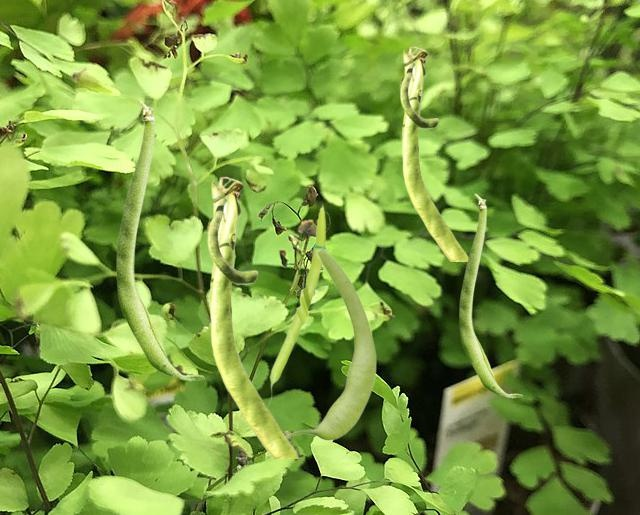french_bean: (206, 176, 298, 457), (116, 99, 204, 380), (286, 246, 376, 439), (399, 46, 467, 260), (459, 193, 522, 397), (267, 202, 327, 406)
